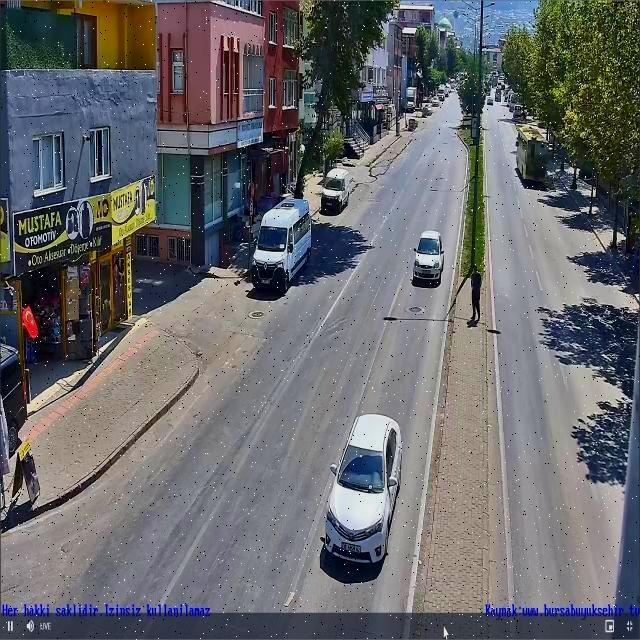Bus: (514, 125, 552, 187)
Car: (325, 412, 406, 564), (412, 230, 446, 284), (486, 96, 494, 105)
Van: (250, 198, 312, 294), (321, 168, 350, 215)
